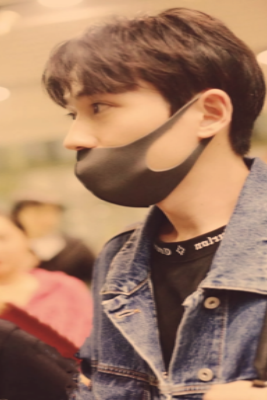mask_weared_incorrect: (63, 97, 200, 207)
